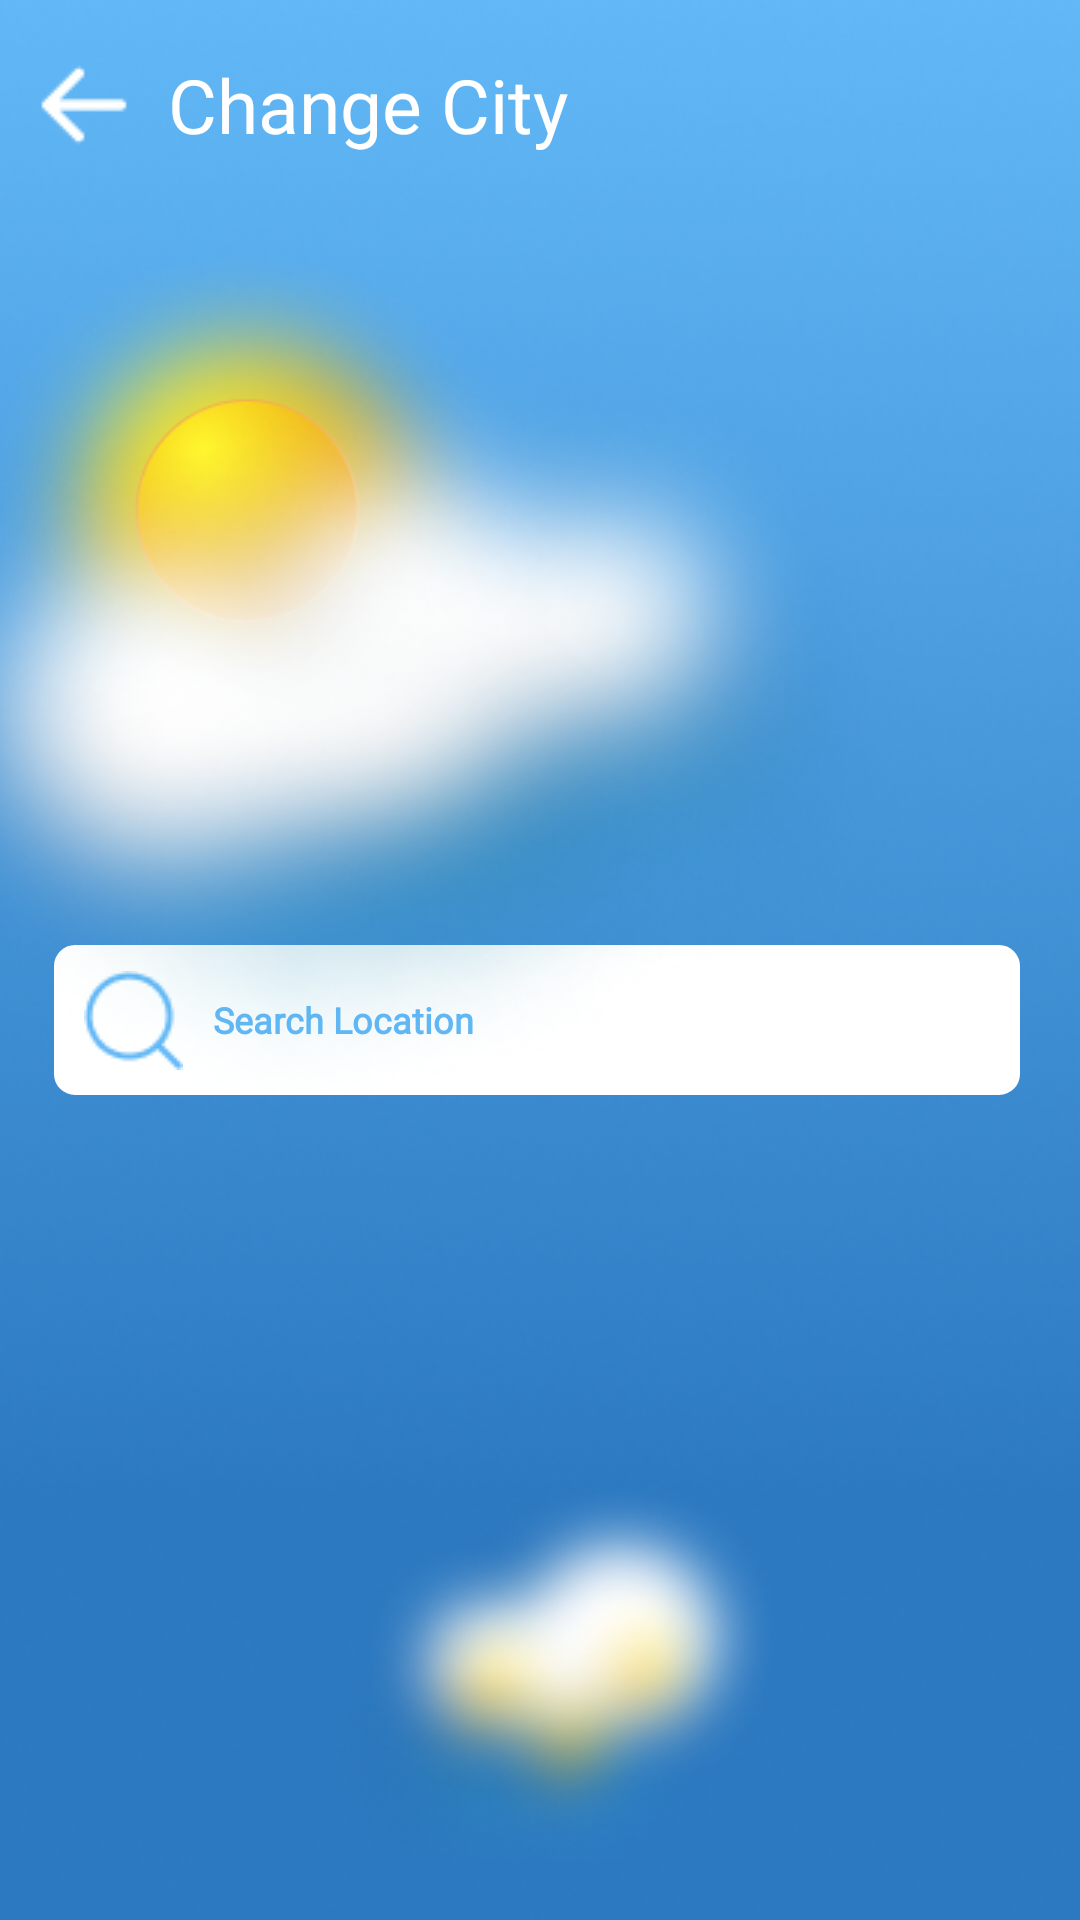

Icon bounding boxes for this 1080 x 1920 phone screenshot, format (x1, y1, x2, y2):
left: (41, 66, 127, 143)
